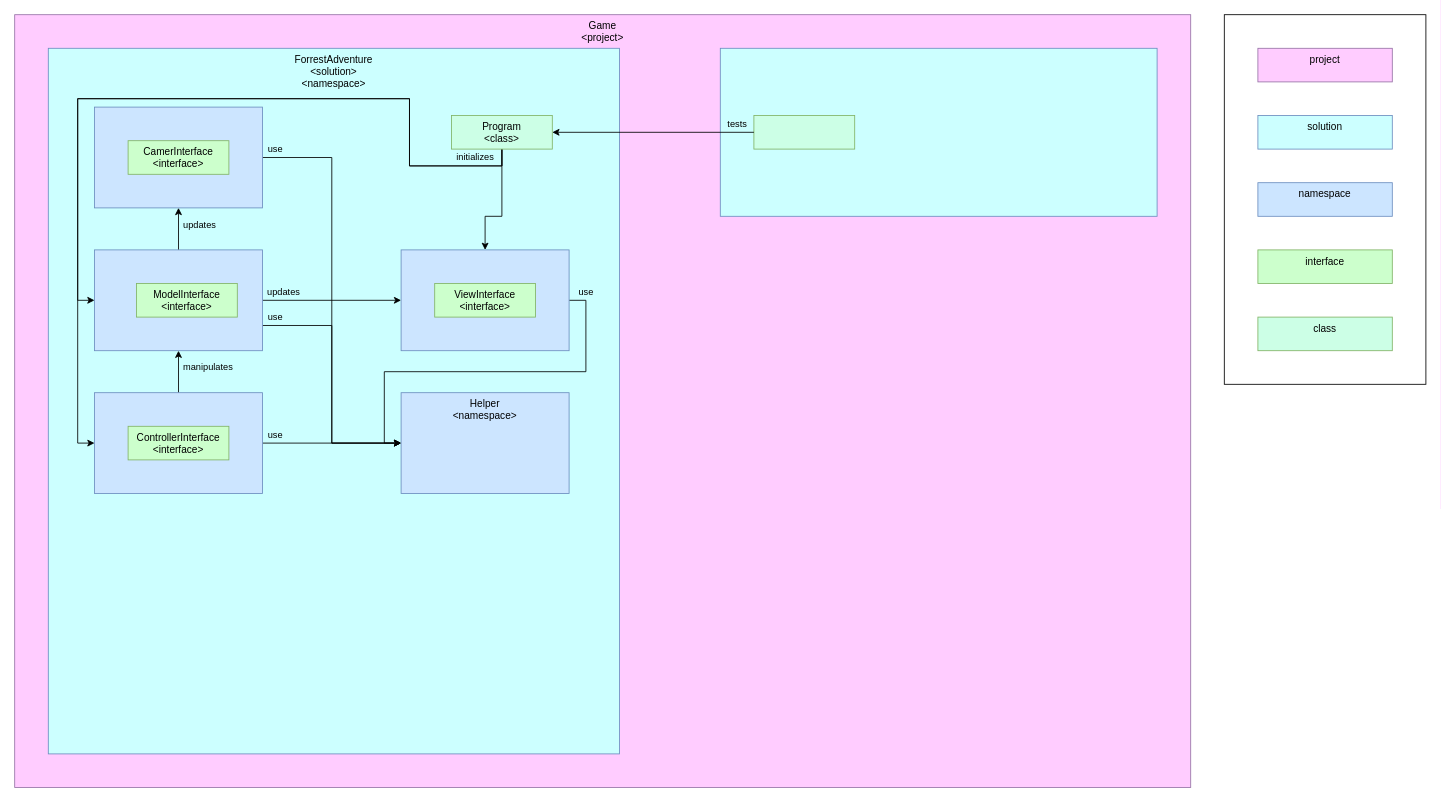
Image size: 1441x802. Some labels were removed from this diagram. Each missing label, with the box of its shape:
Camera <namespace>: (94, 106, 262, 208)
Controller <namespace>: (94, 392, 262, 494)
legend: (1223, 14, 1426, 384)
Model <namespace>: (94, 249, 262, 351)
ProgramTest <class>: (753, 115, 855, 149)
UnitTestForrestAdventure <solution> <namespace>: (719, 47, 1157, 216)
View <namespace>: (400, 249, 569, 351)
